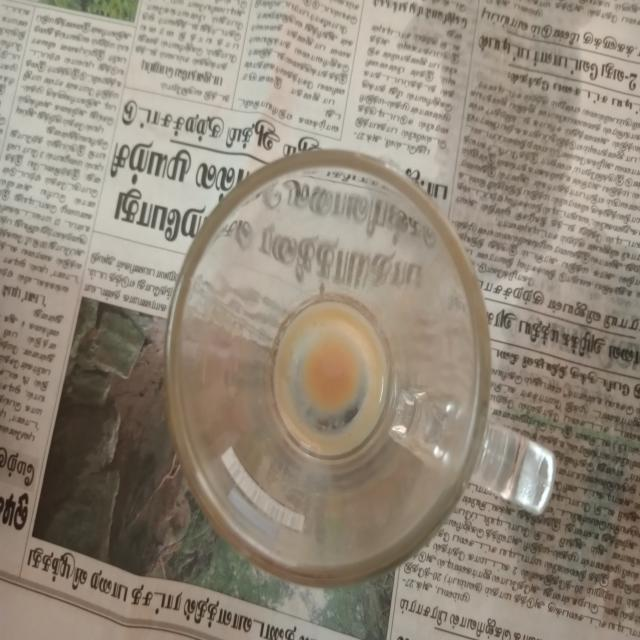glass-VX4N: (164, 147, 554, 577)
